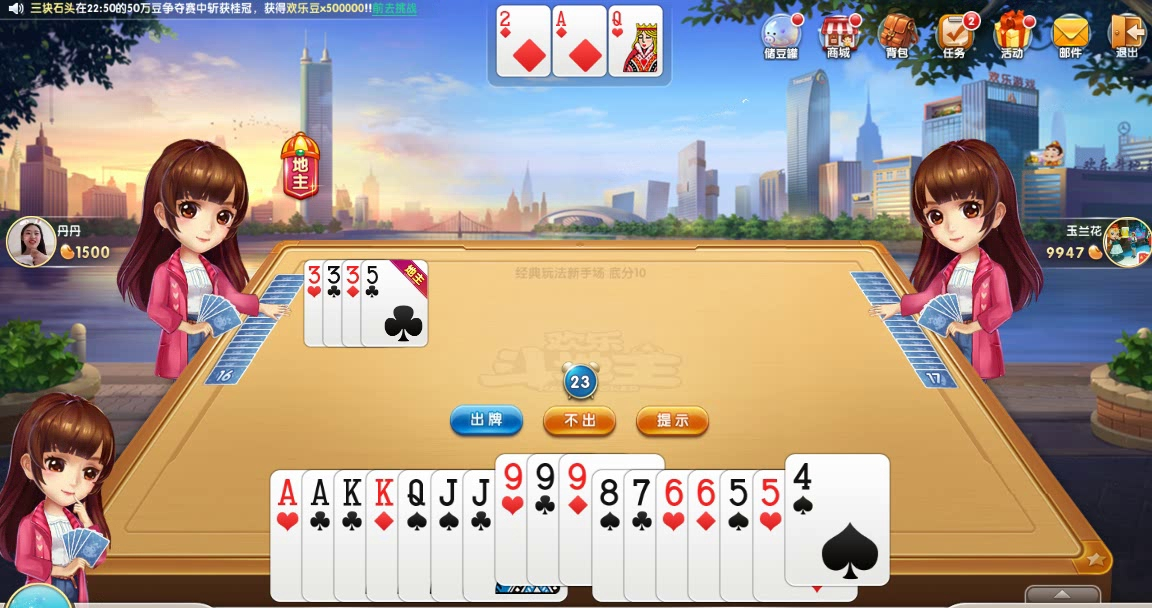11~2: (460, 468, 566, 600)
11~4: (430, 469, 536, 601)
12~3: (608, 5, 663, 77)
12~4: (397, 469, 503, 601)
13~1: (366, 469, 472, 601)
13~2: (332, 469, 438, 601)
14~1: (553, 5, 608, 77)
14~2: (301, 469, 407, 601)
14~3: (269, 469, 375, 601)
15~1: (497, 5, 552, 77)
3~1: (341, 259, 408, 346)
3~2: (323, 259, 390, 346)
3~3: (305, 259, 372, 346)
4~4: (784, 454, 890, 586)
5~2: (360, 259, 427, 346)
5~3: (752, 469, 858, 601)
5~4: (720, 469, 826, 601)
6~1: (685, 469, 791, 601)
6~3: (655, 469, 761, 601)
7~2: (623, 469, 729, 601)
8~4: (591, 469, 697, 601)
9~1: (558, 453, 664, 585)
9~2: (525, 453, 631, 585)
9~3: (495, 453, 601, 585)
